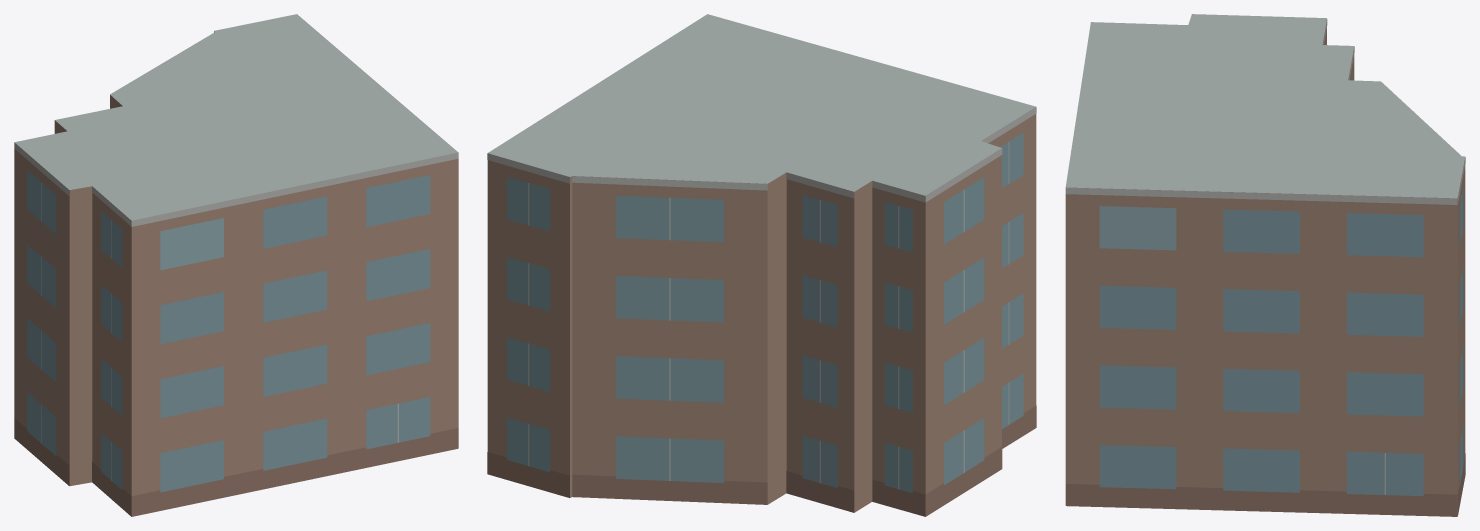
Rendered from survey-upis-32953530.glb.
3 renders of one model, left to right at view 1: azimuth 30°, elevation 25°; view 2: azimuth 150°, elevation 25°; view 3: azimuth 270°, elevation 25°, orthographic. The views are drawn at different scales.
Visible parts, largest first — view 1: survey-upis-32953530.tmp; view 2: survey-upis-32953530.tmp; view 3: survey-upis-32953530.tmp.
Boxes of the visible parts, x1,y1,x2,y2 form: survey-upis-32953530.tmp: (14,14,458,516); survey-upis-32953530.tmp: (487,14,1036,516); survey-upis-32953530.tmp: (1065,14,1465,516).
Bounding box in the file's own units: 14.49 × 11.67 × 13.29.
